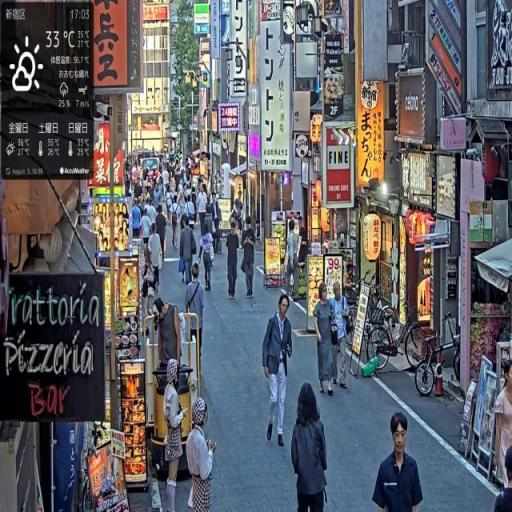person: (371, 410, 425, 512), (291, 383, 330, 512), (263, 293, 294, 451), (162, 361, 187, 512), (187, 396, 218, 512), (313, 284, 337, 399), (329, 278, 352, 392), (185, 263, 207, 373), (240, 219, 258, 301), (198, 222, 216, 293), (180, 216, 197, 288), (226, 219, 240, 304), (149, 222, 163, 296), (211, 194, 224, 258), (171, 195, 181, 250)
